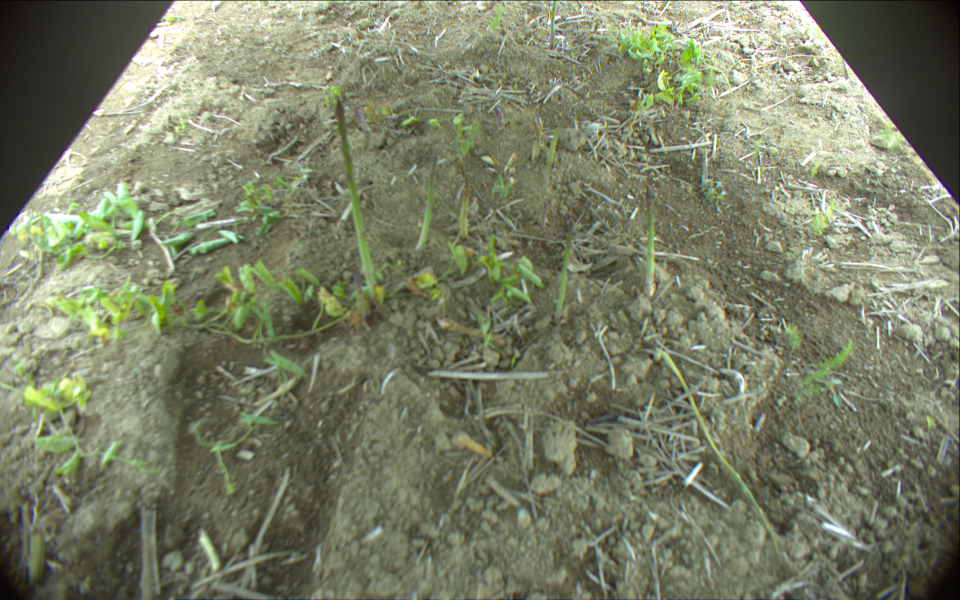aspa: (659, 353, 789, 561), (332, 91, 377, 298), (550, 217, 575, 329), (417, 150, 438, 255), (646, 171, 660, 305), (451, 157, 471, 240), (546, 116, 567, 166), (528, 116, 541, 163), (549, 1, 557, 50), (497, 105, 504, 129)
